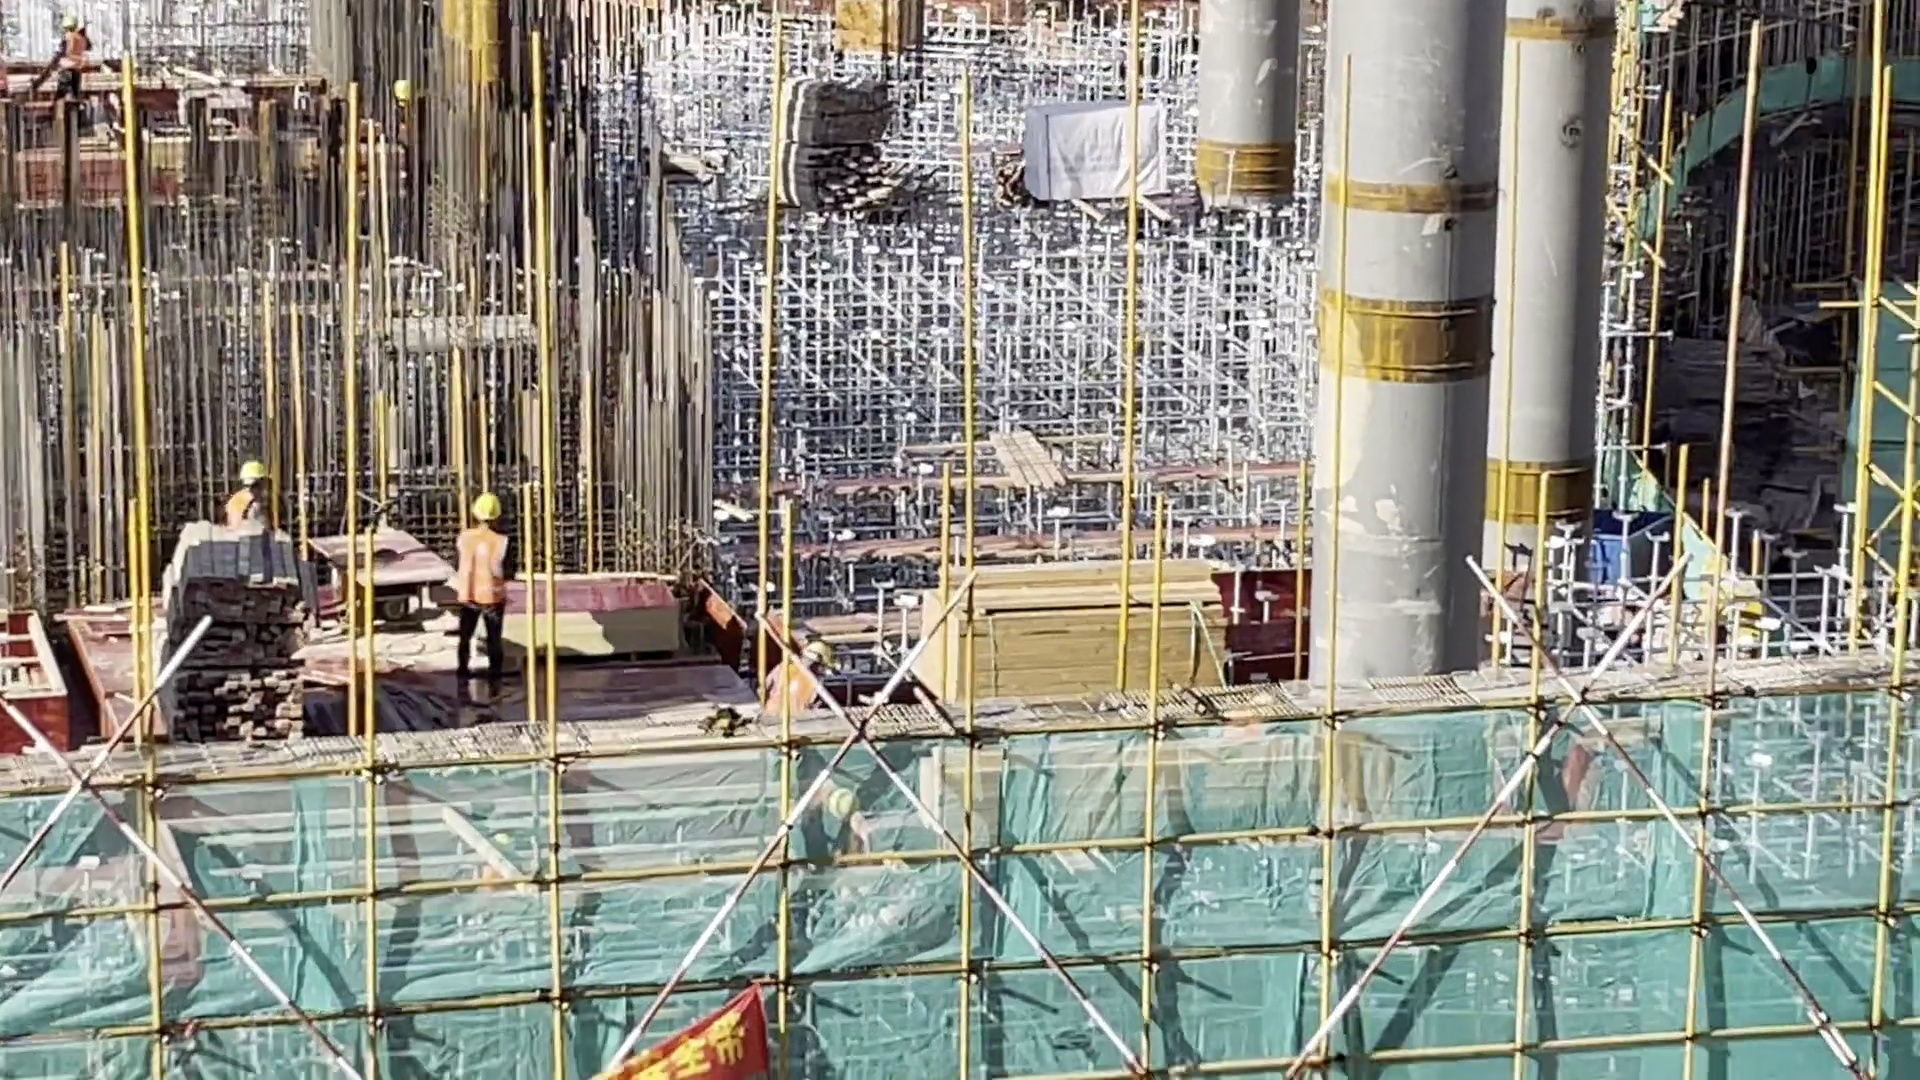board: (471, 565, 695, 672)
helmet: (805, 626, 835, 670), (234, 460, 281, 486), (468, 489, 498, 520)
person: (451, 468, 518, 698), (193, 446, 284, 543), (774, 639, 851, 749), (49, 4, 95, 102)
slogan: (547, 970, 783, 1080)
vest: (448, 523, 516, 612), (757, 655, 824, 719), (222, 493, 285, 535), (55, 29, 87, 74)
wood: (910, 563, 1245, 774), (141, 542, 318, 750)
